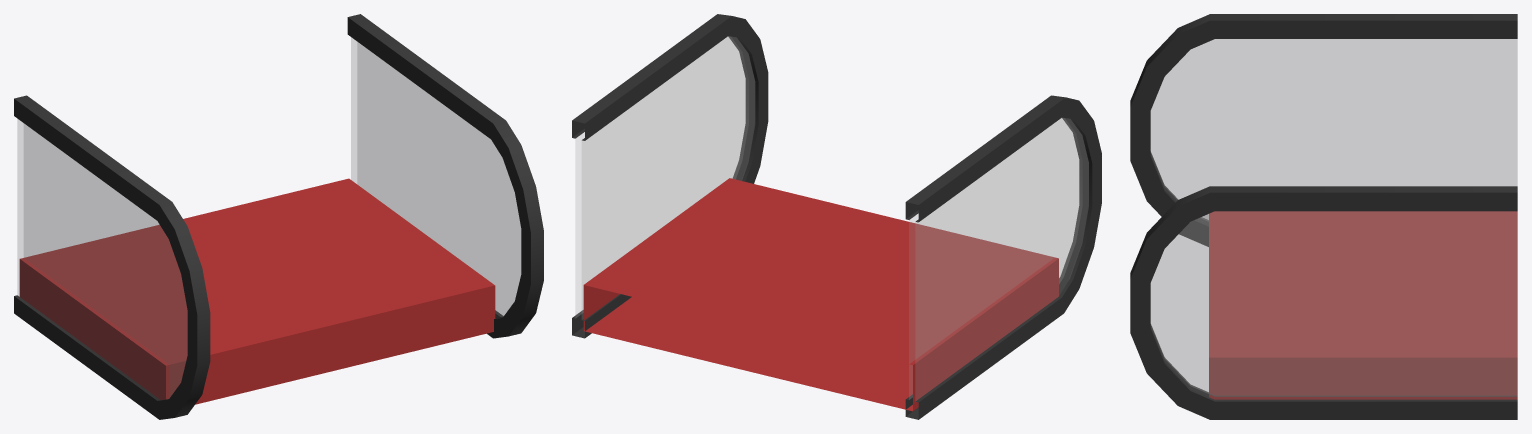
The model's file is Escalator_End.fbx.
3 views of the same model, side by side, from view 1: azimuth 30°, elevation 25°; view 2: azimuth 150°, elevation 25°; view 3: azimuth 270°, elevation 25° (orthographic). The views are drawn at different scales.
Parts seen in each view (by area): view 1: Würfel_2, Würfel_4, Würfel_3, Würfel, Würfel_1; view 2: Würfel_2, Würfel_4, Würfel_3, Würfel, Würfel_1; view 3: Würfel_3, Würfel_2, Würfel_4, Würfel_1, Würfel.
Part boxes in pixels (bbox=[...]): Würfel_2: bbox=[19, 178, 495, 404]; Würfel_4: bbox=[17, 119, 187, 399]; Würfel_3: bbox=[351, 37, 520, 317]; Würfel: bbox=[14, 95, 210, 419]; Würfel_1: bbox=[347, 14, 543, 338]; Würfel_2: bbox=[583, 178, 1058, 411]; Würfel_4: bbox=[909, 118, 1088, 400]; Würfel_3: bbox=[575, 36, 754, 319]; Würfel: bbox=[905, 95, 1101, 419]; Würfel_1: bbox=[572, 14, 768, 338]; Würfel_3: bbox=[1151, 211, 1517, 399]; Würfel_2: bbox=[1209, 211, 1517, 399]; Würfel_4: bbox=[1151, 39, 1517, 221]; Würfel_1: bbox=[1130, 186, 1517, 419]; Würfel: bbox=[1130, 14, 1517, 246].
Bounding box in the file's own units: 135 × 80 × 124.
